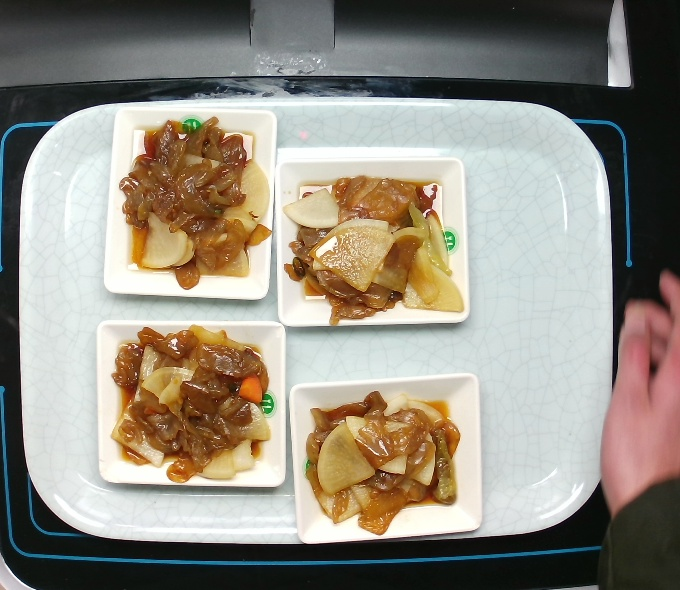wcq-HaiZheTou: (281, 170, 469, 331), (113, 112, 276, 294), (108, 321, 277, 485), (299, 387, 468, 539)
